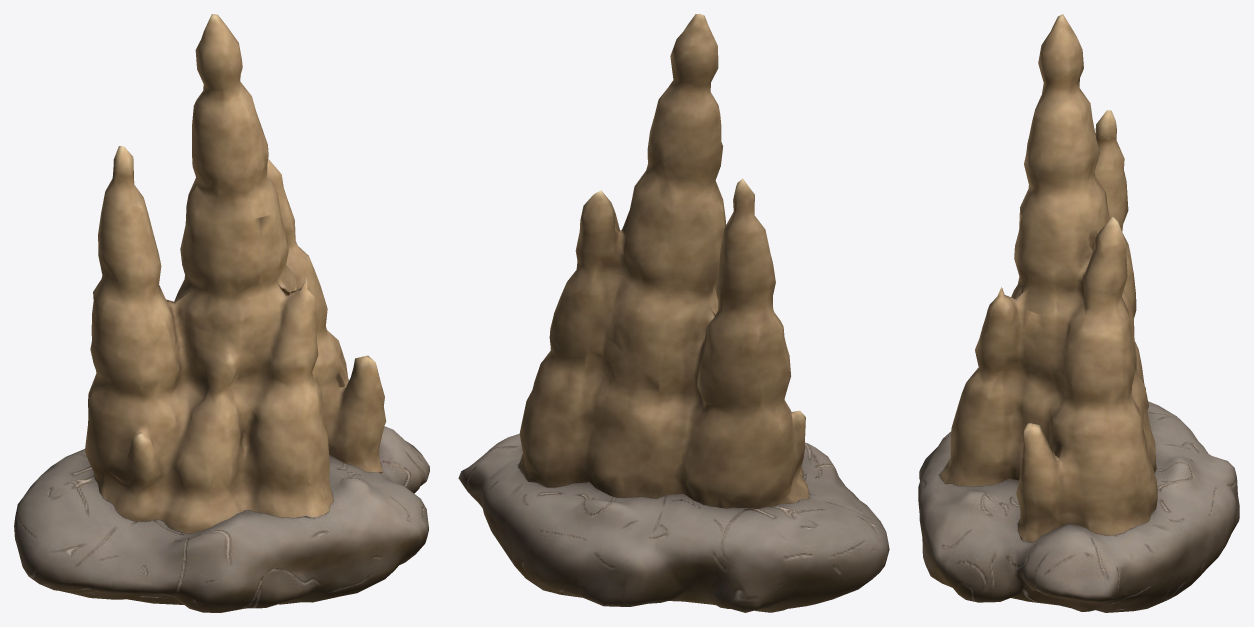
Rendered from drip_a.glb.
The picture shows the model from 3 angles, left to right: view 1: azimuth 30°, elevation 25°; view 2: azimuth 150°, elevation 25°; view 3: azimuth 270°, elevation 25°; orthographic projection. The views are drawn at different scales.
Visible parts, largest first — view 1: stone, rock; view 2: stone, rock; view 3: stone, rock.
Boxes of the visible parts, left/top/right/bottom form: stone: left=85, top=14, right=386, bottom=533; rock: left=14, top=426, right=429, bottom=612; stone: left=518, top=14, right=809, bottom=509; rock: left=458, top=434, right=889, bottom=612; stone: left=940, top=14, right=1157, bottom=542; rock: left=918, top=401, right=1239, bottom=612.
Size of the model in its own units: 0.7946 by 1.07 by 0.5754.
Materials: 2 (2 with a texture image).
